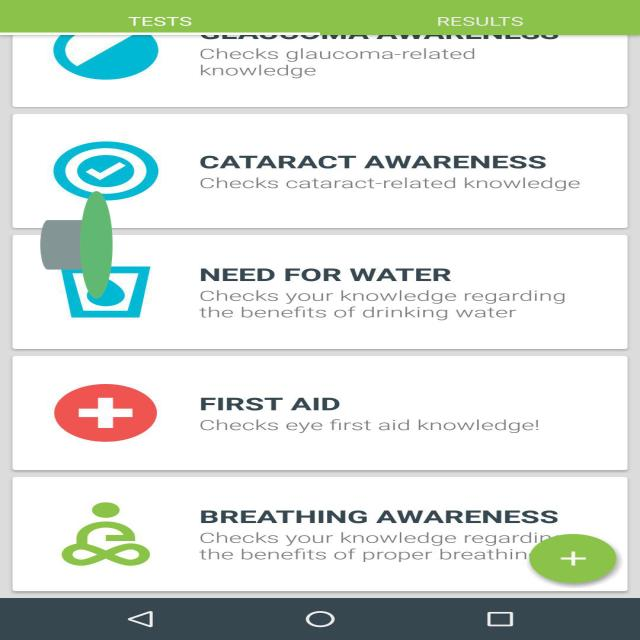social proof: (40, 125, 113, 365)
